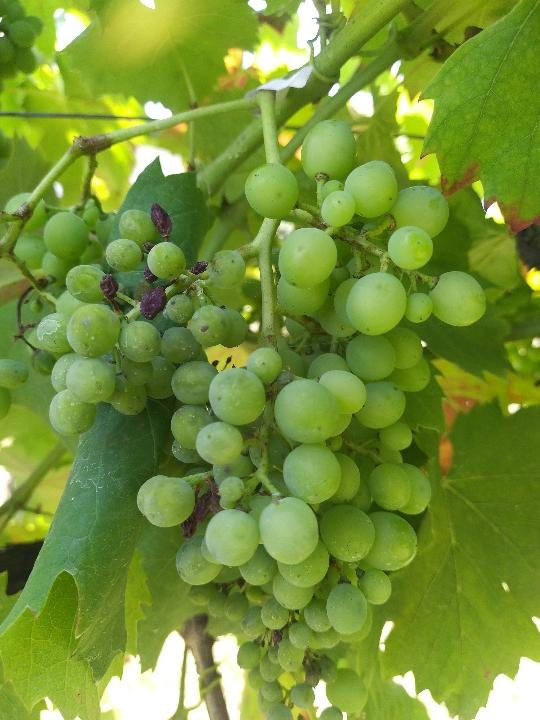grape: (27, 110, 490, 707)
